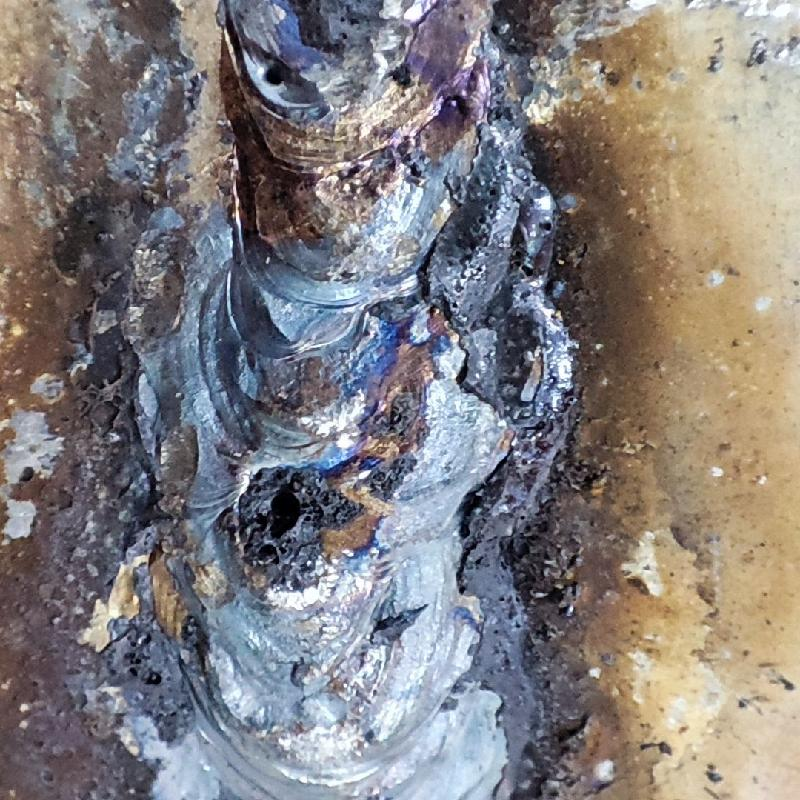Surface_pores: (228, 459, 346, 584), (250, 44, 305, 112)
